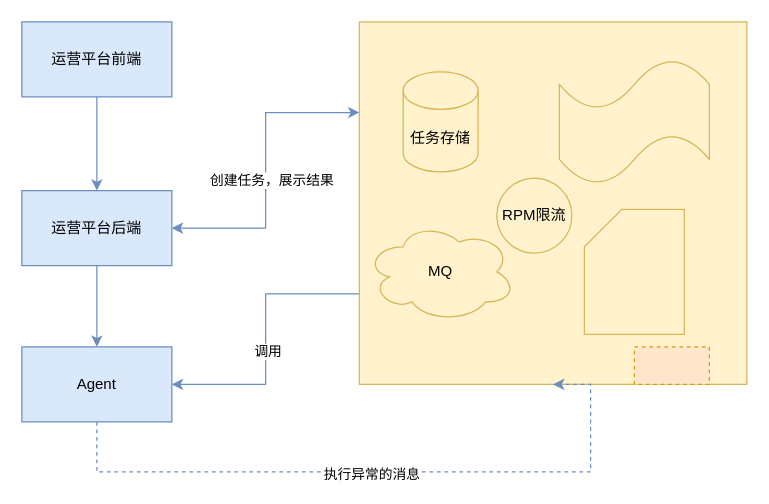
This 769x504 diagram has some shape labels left out. Here are the shapes that lost their labels. From the top down, the centre of each, then its label:
At pixel 633 121: "定时任务重试".
At pixel 633 271: "任务状态机调度".
At pixel 671 365: "任务系统".
